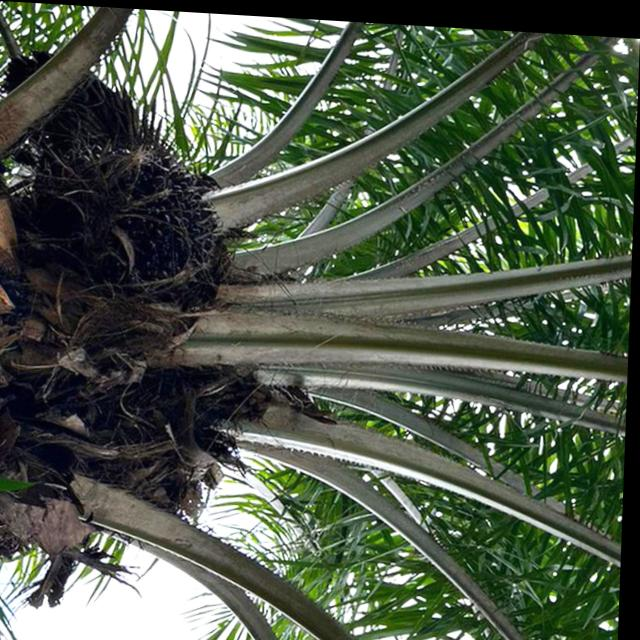almost: (80, 152, 222, 312)
